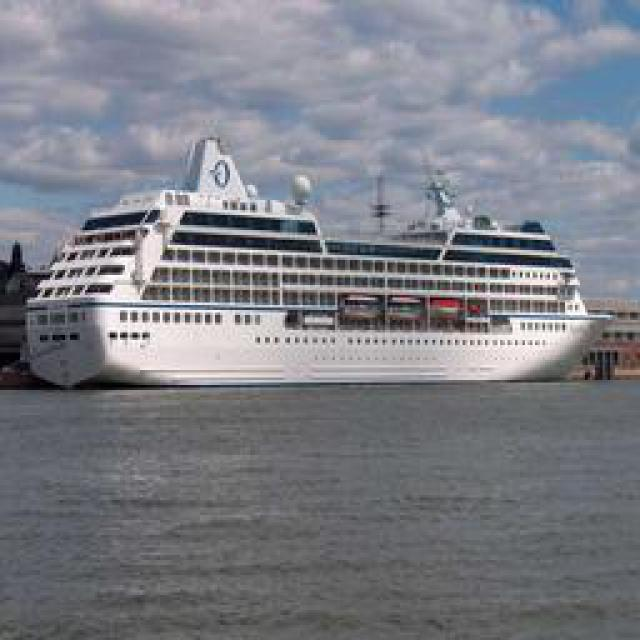Ship: (24, 135, 619, 388)
